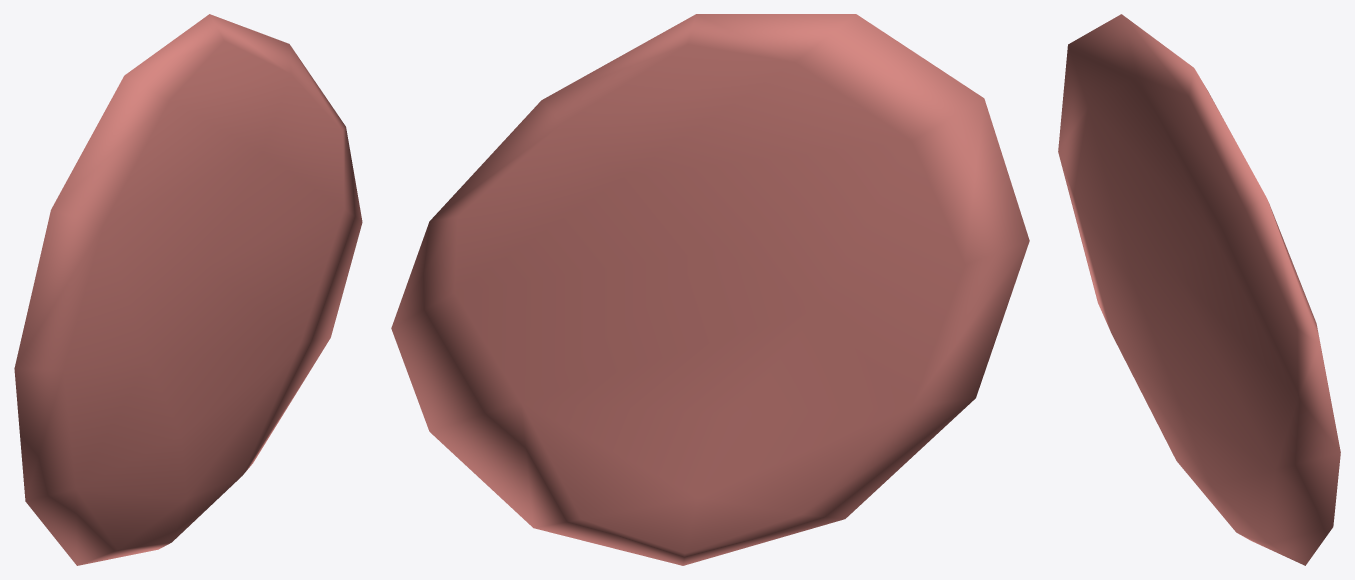
3 views of the same model, side by side, from view 1: azimuth 30°, elevation 25°; view 2: azimuth 150°, elevation 25°; view 3: azimuth 270°, elevation 25° (orthographic). The views are drawn at different scales.
Parts seen in each view (by area): view 1: ZA_42787d1ddc4b17a1; view 2: ZA_42787d1ddc4b17a1; view 3: ZA_42787d1ddc4b17a1.
Part boxes in pixels (x1,y1,x2,y2): ZA_42787d1ddc4b17a1: (14, 14, 362, 565); ZA_42787d1ddc4b17a1: (391, 14, 1029, 565); ZA_42787d1ddc4b17a1: (1058, 14, 1340, 565).
Size of the model in its own units: 0.00574 by 0.00595 by 0.00317.
